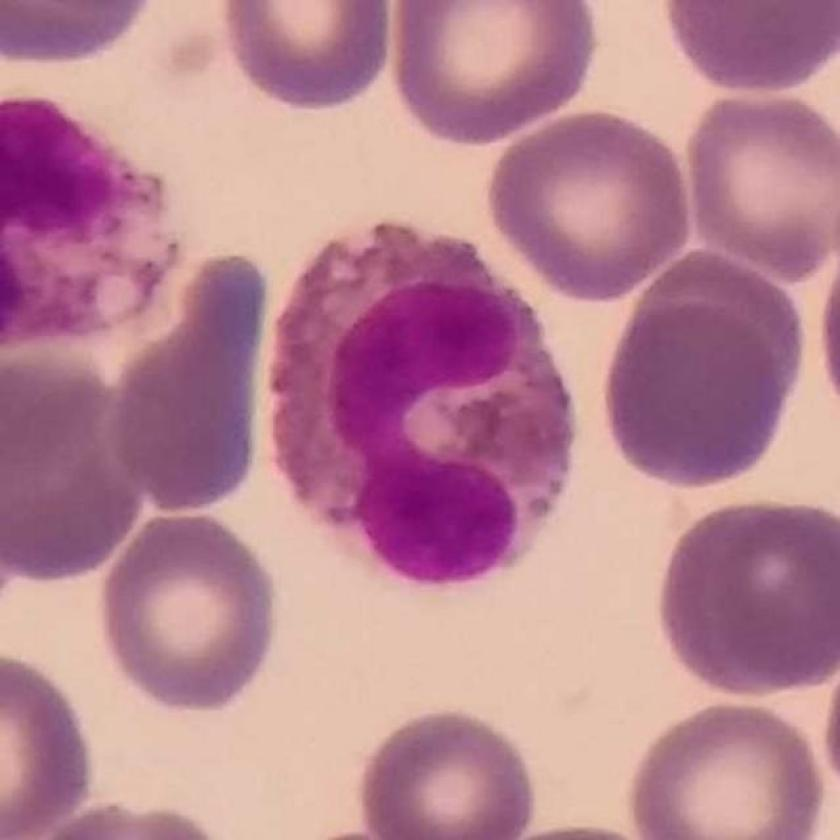eosinophil: (274, 215, 580, 592)
